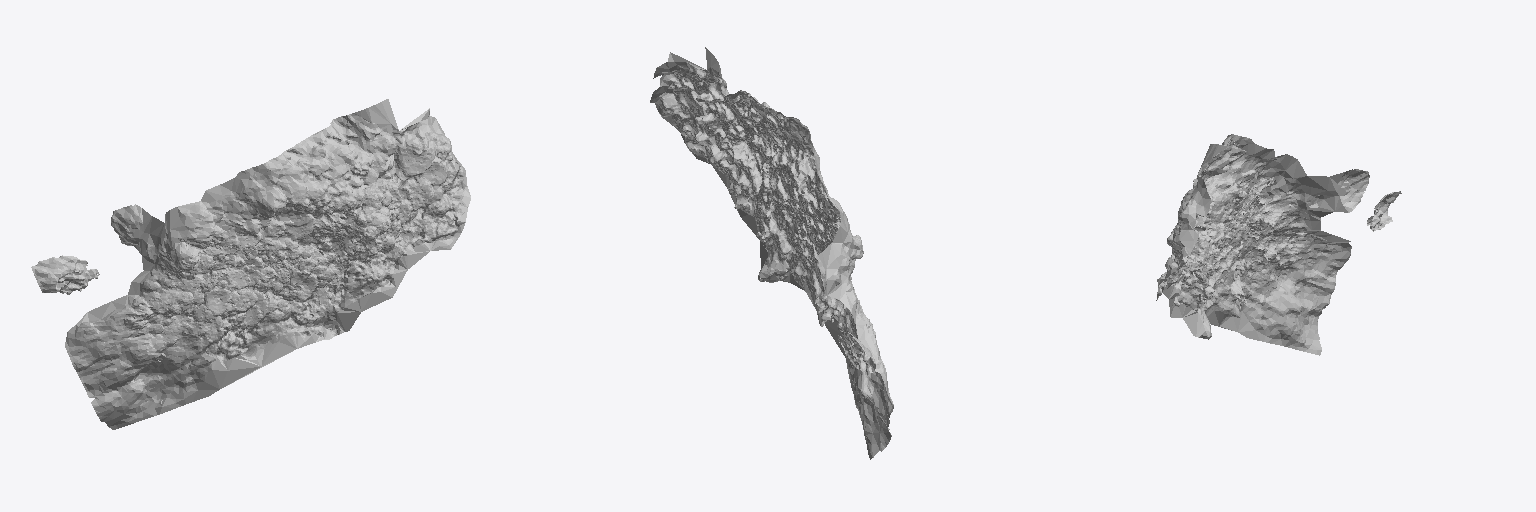
The model's file is ur_full.obj.
The picture shows the model from 3 angles: view 1: azimuth 30°, elevation 25°; view 2: azimuth 150°, elevation 25°; view 3: azimuth 270°, elevation 25°; orthographic projection.
Bounding box in the file's own units: 85 × 78.99 × 55.56.